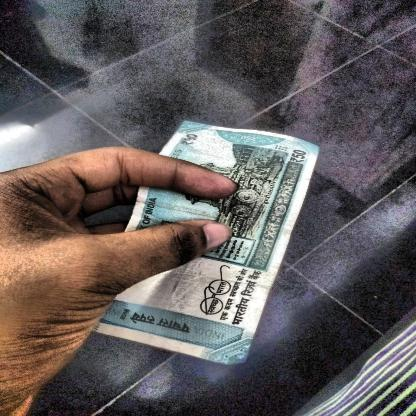Rs50: (285, 147, 311, 166)
